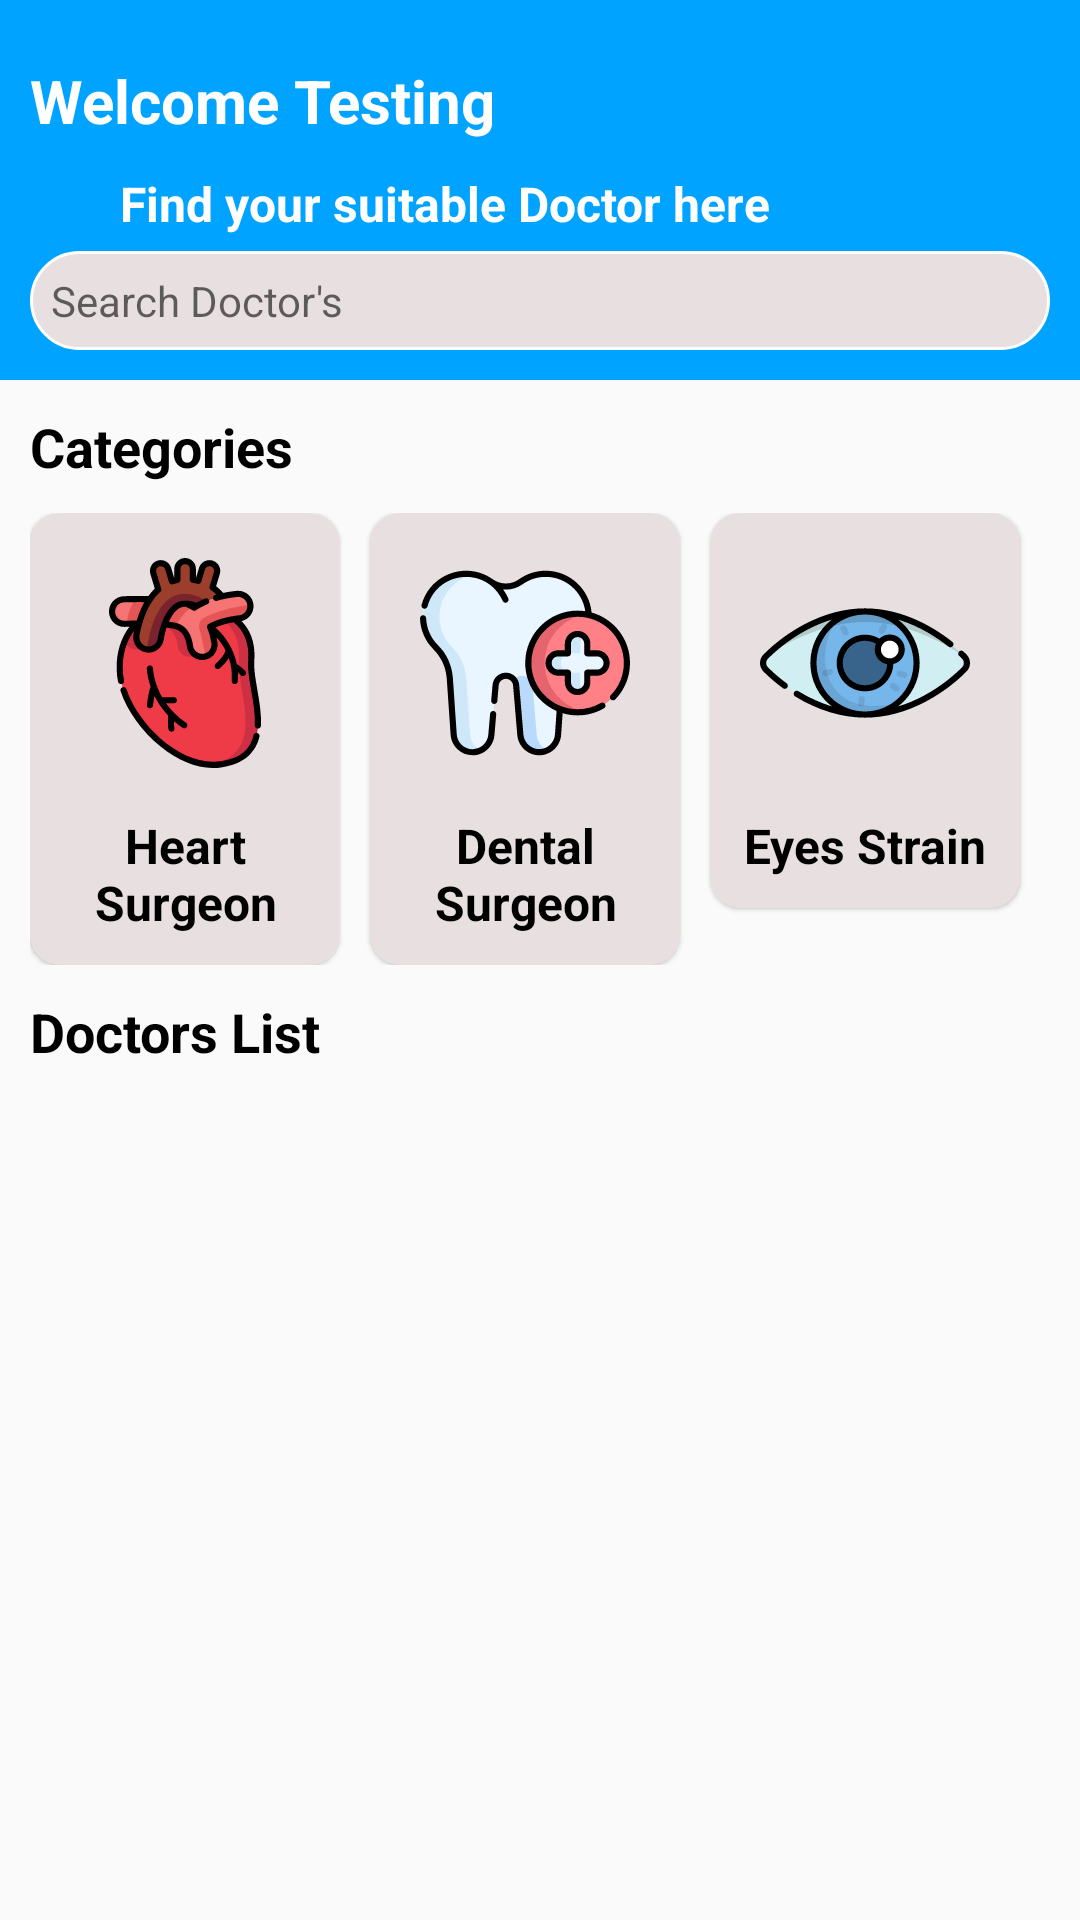

Screen size 1080px×1920px. Icon name, then its box in pixels as (x1, y1, x2, y2):
eye: (760, 608, 970, 718)
tooth: (420, 570, 630, 756)
